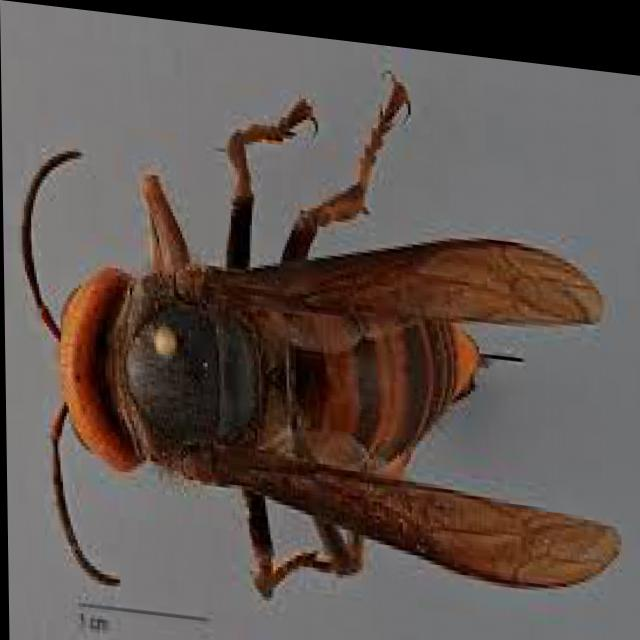Vespa Velutina: (0, 19, 628, 639)
